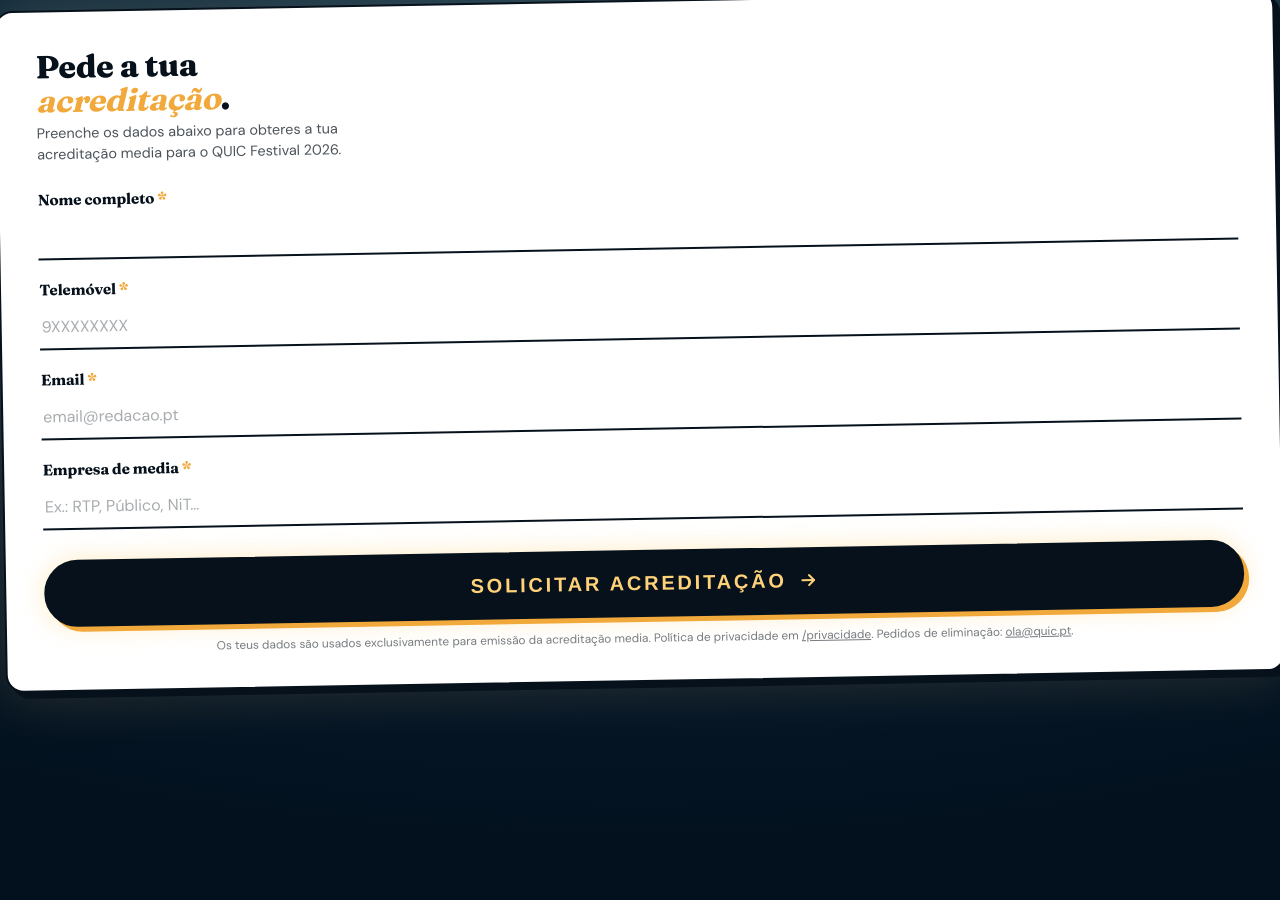
Test case: AccreditationForm › API error → mostra server error
Step 1. Type "Ana Costa" into the field labelled "Nome completo *" → (638, 228), box [38,195,1238,260]
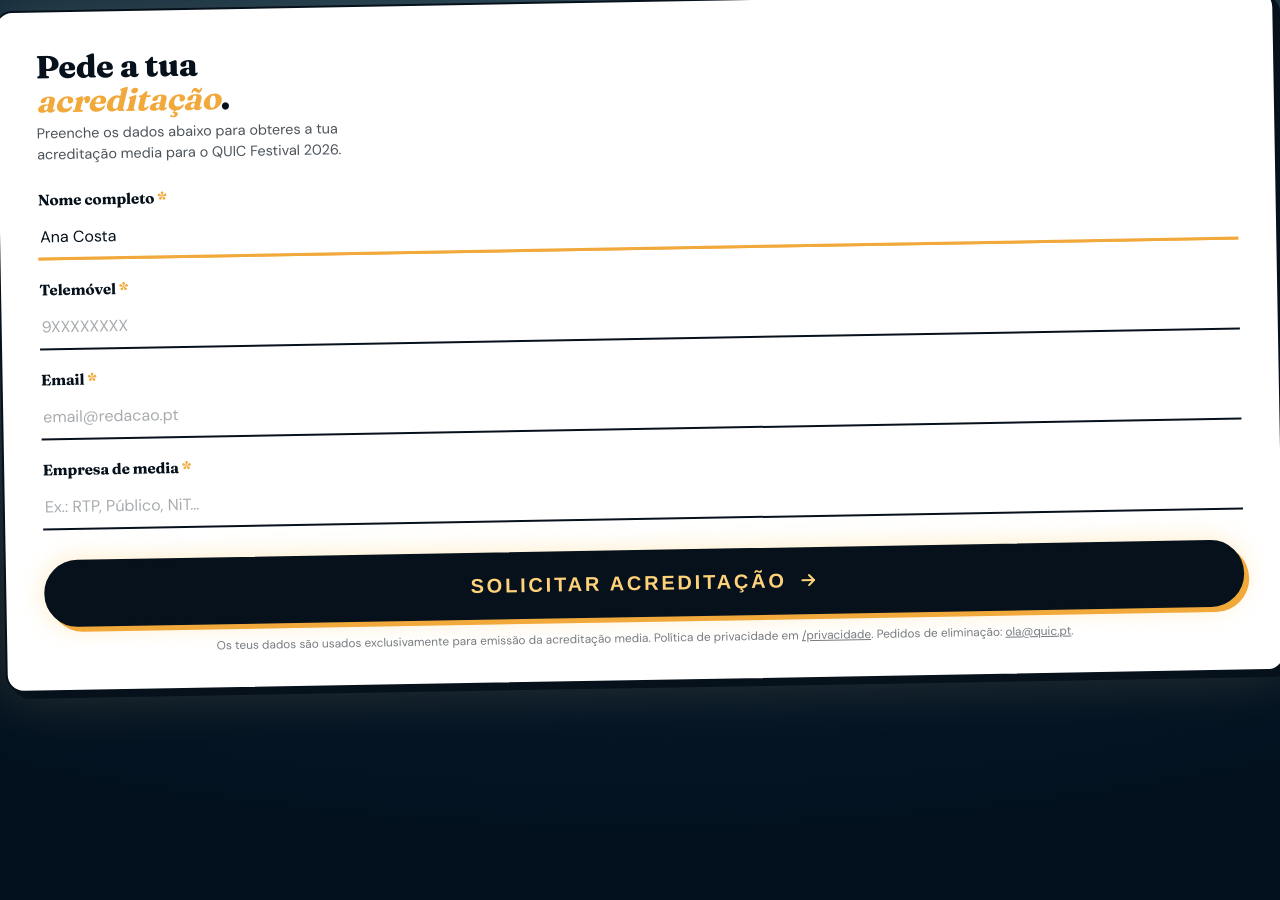
Step 2. Type "912345678" into the field labelled "Telemóvel *" → (640, 318), box [40,285,1240,350]
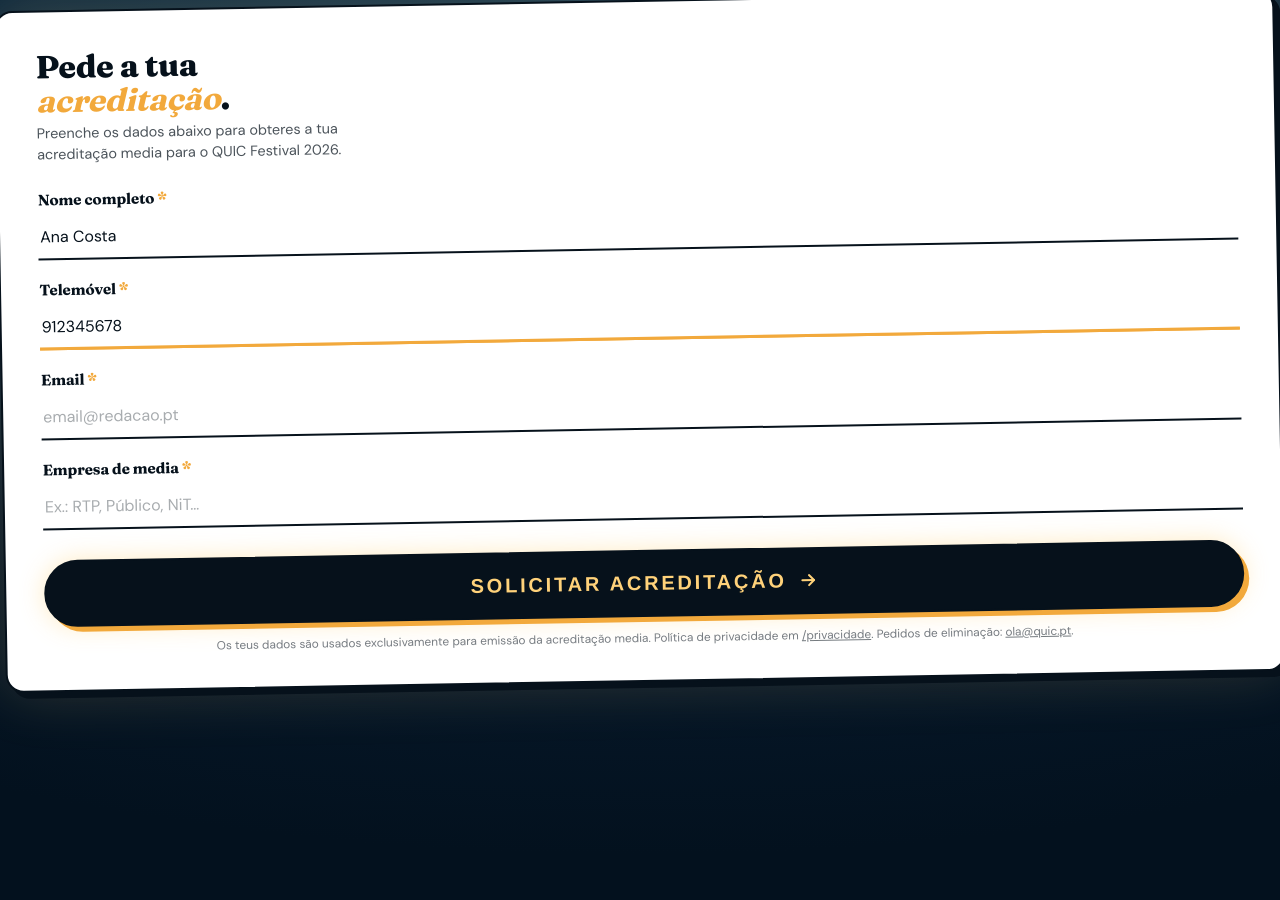
Step 3. Type "ana@sic.pt" into the field labelled "Email *" → (641, 408), box [41,375,1241,440]
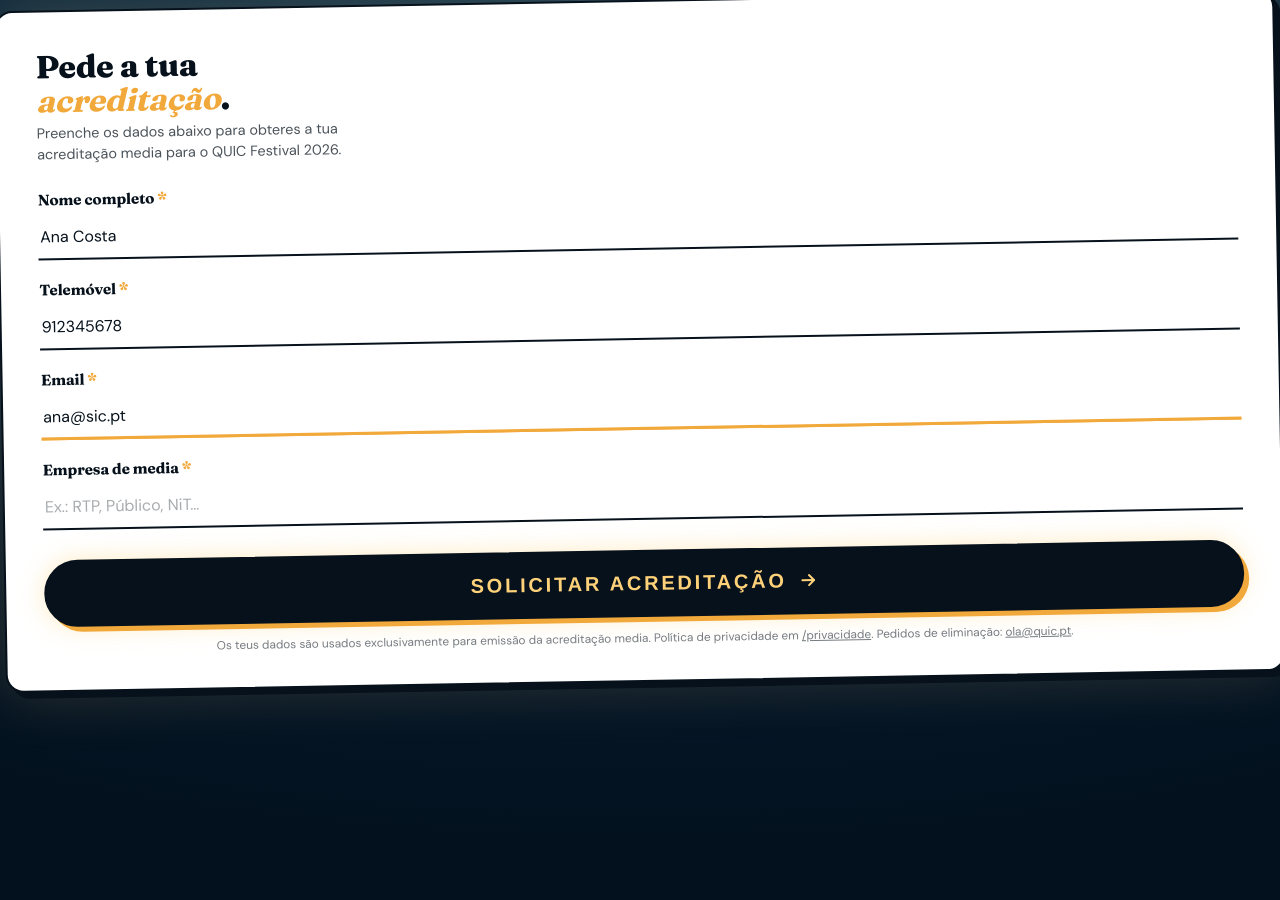
Step 4. Type "SIC" into the field labelled "Empresa de media *" → (643, 498), box [43,465,1243,530]
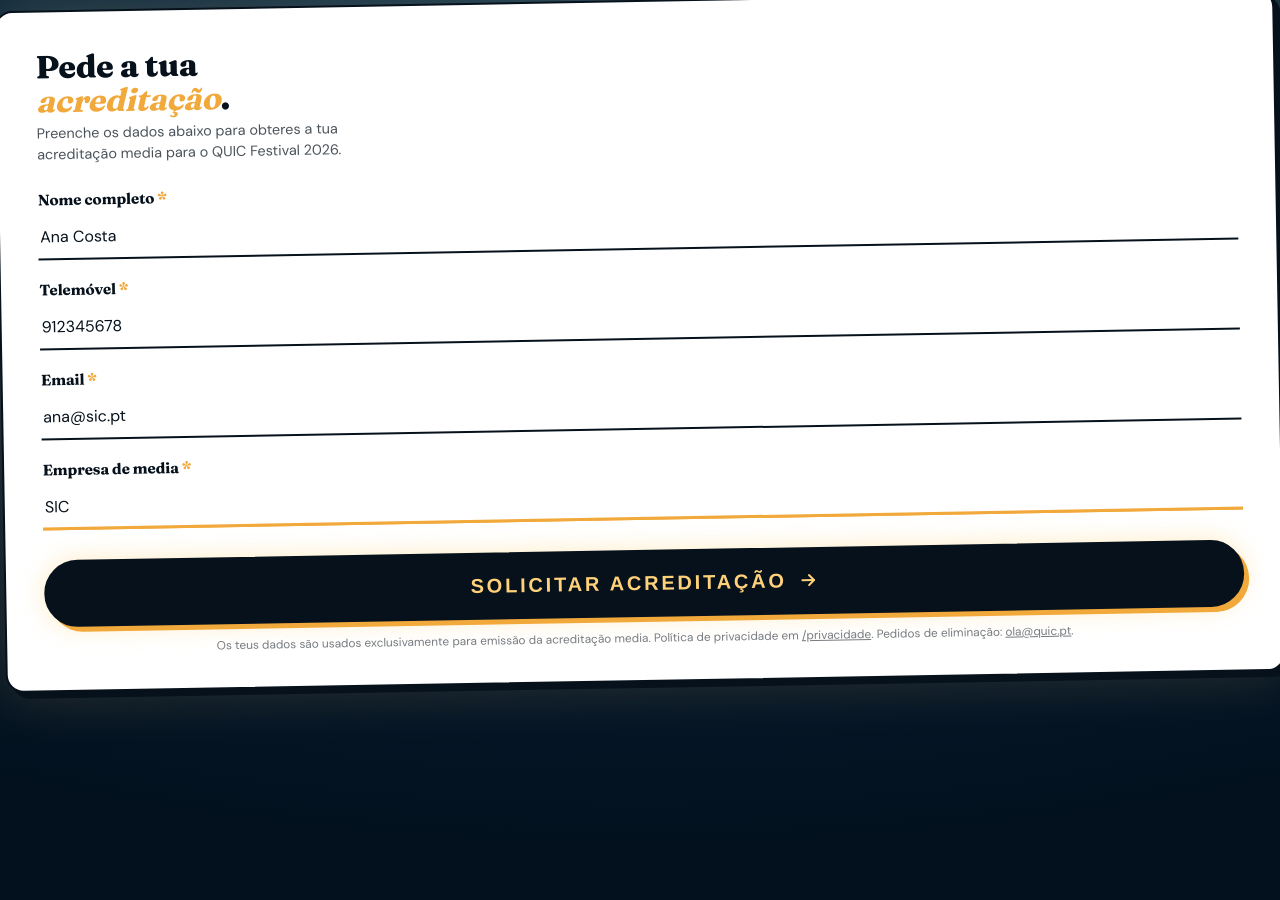
Step 5. Click the button "SOLICITAR ACREDITAÇÃO" → (644, 583), box [44,540,1244,627]
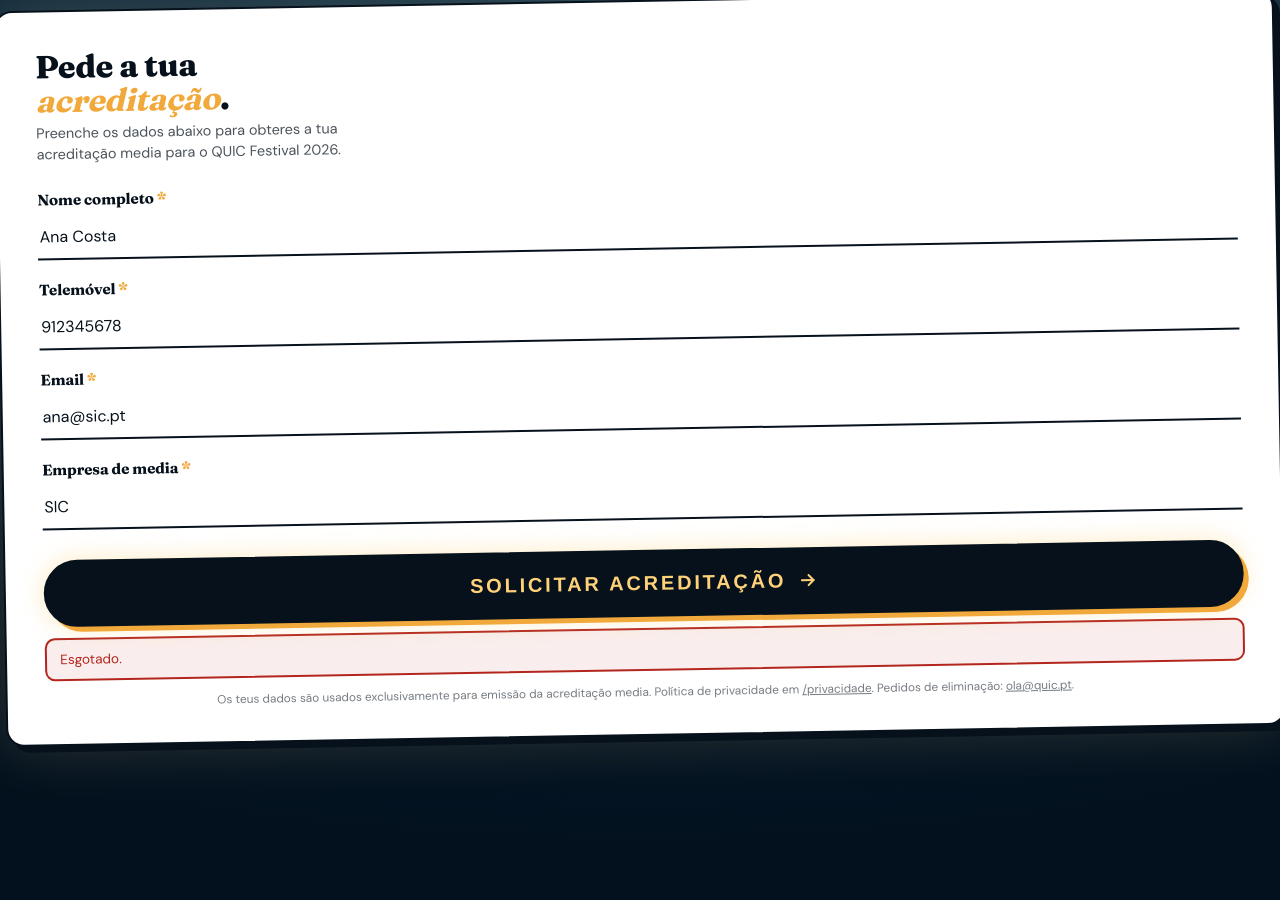
expect the message shows "Esgotado": met, box [60,650,122,668]
